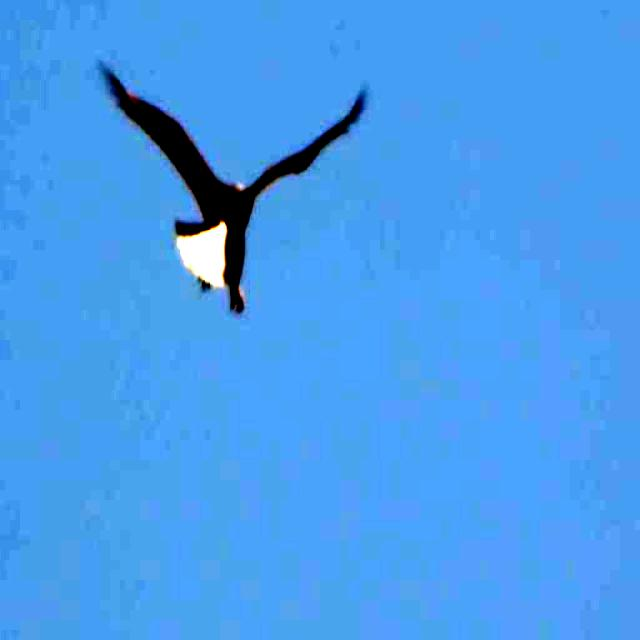airplane: (98, 39, 368, 309)
